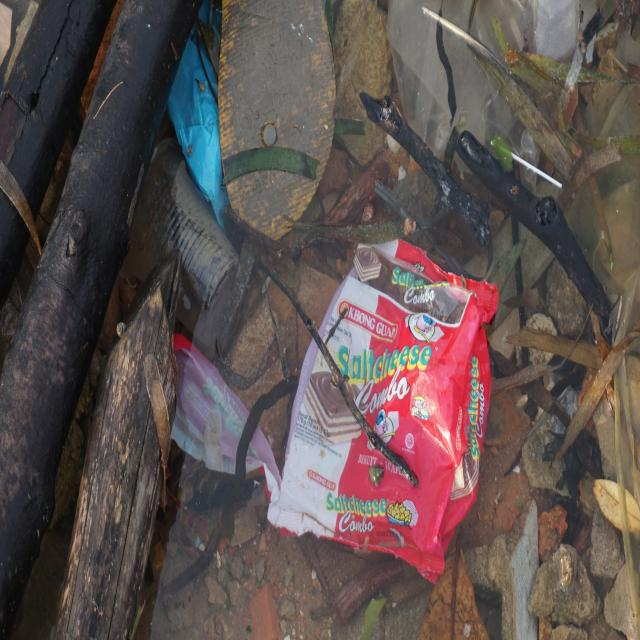Bungkus Makanan: (277, 233, 489, 581)
Bungkus Minuman: (137, 148, 244, 337)
Kantong Plastik: (168, 4, 231, 225)
